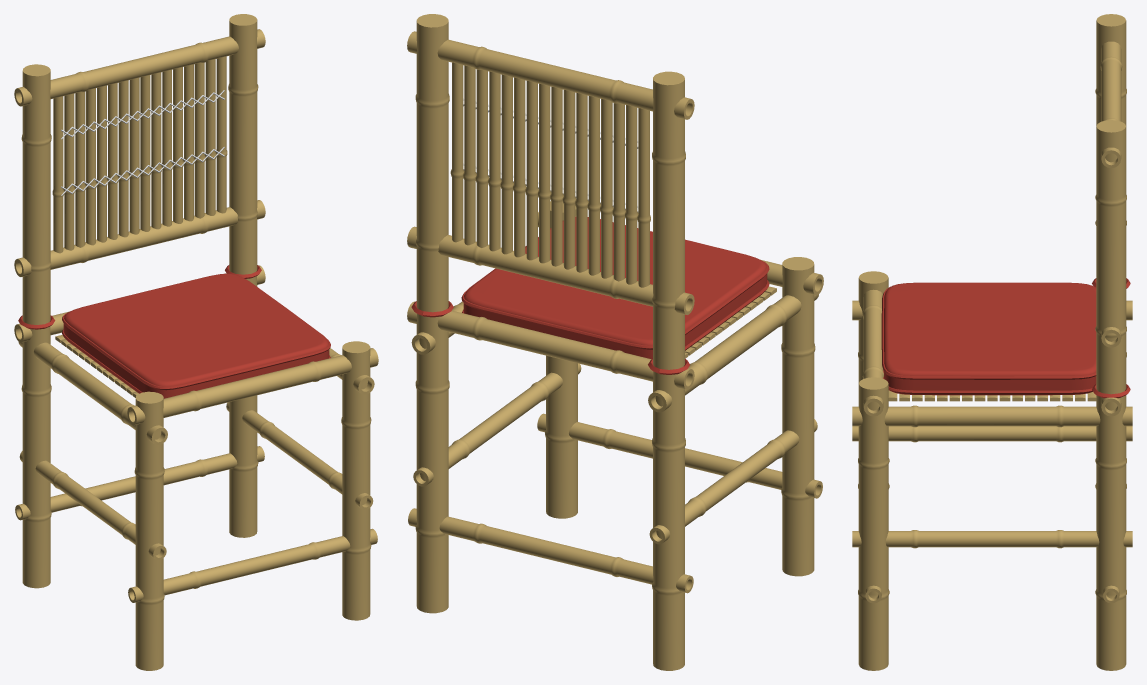
File: ghe_tre_dem.glb
3 renders of one model, left to right at view 1: azimuth 30°, elevation 25°; view 2: azimuth 150°, elevation 25°; view 3: azimuth 270°, elevation 25°, orthographic. The views are drawn at different scales.
Parts seen in each view (by area): view 1: ghe_tre_dem; view 2: ghe_tre_dem; view 3: ghe_tre_dem.
Boxes of the visible parts, bbox=[...] form: ghe_tre_dem: bbox=[14, 14, 378, 670]; ghe_tre_dem: bbox=[407, 14, 823, 670]; ghe_tre_dem: bbox=[852, 14, 1132, 670].
Bounding box in the file's own units: 0.445 × 0.9 × 0.425.
